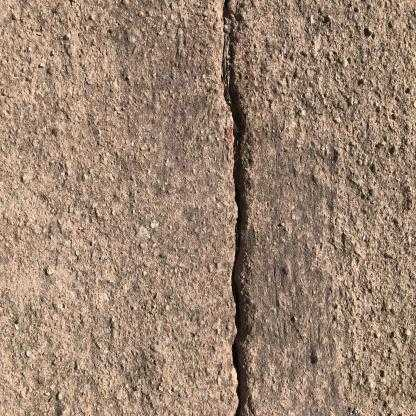crack: (220, 0, 247, 412)
